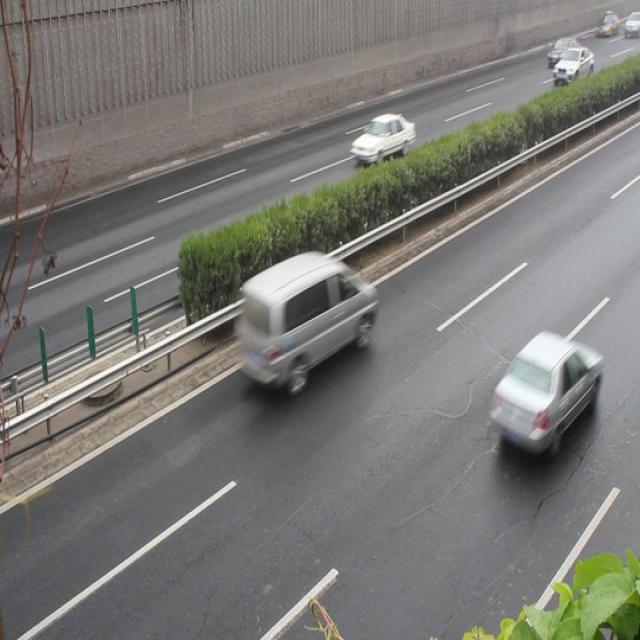car: (488, 329, 603, 452), (352, 111, 416, 164)
truck: (237, 249, 375, 385)
